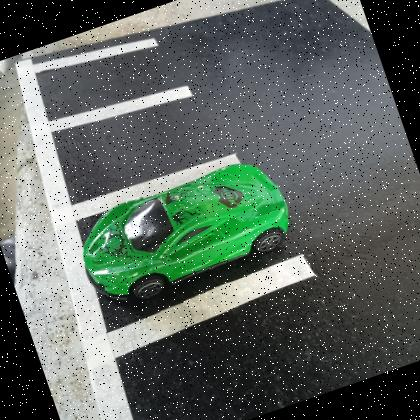Car: (82, 163, 290, 302)
